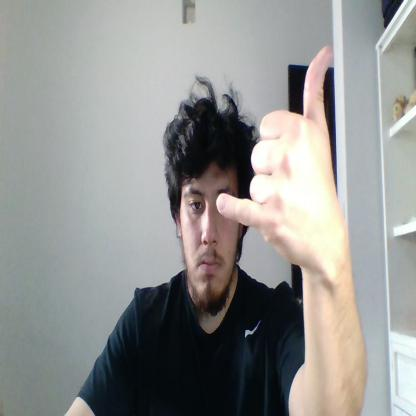Y: (216, 46, 344, 263)
